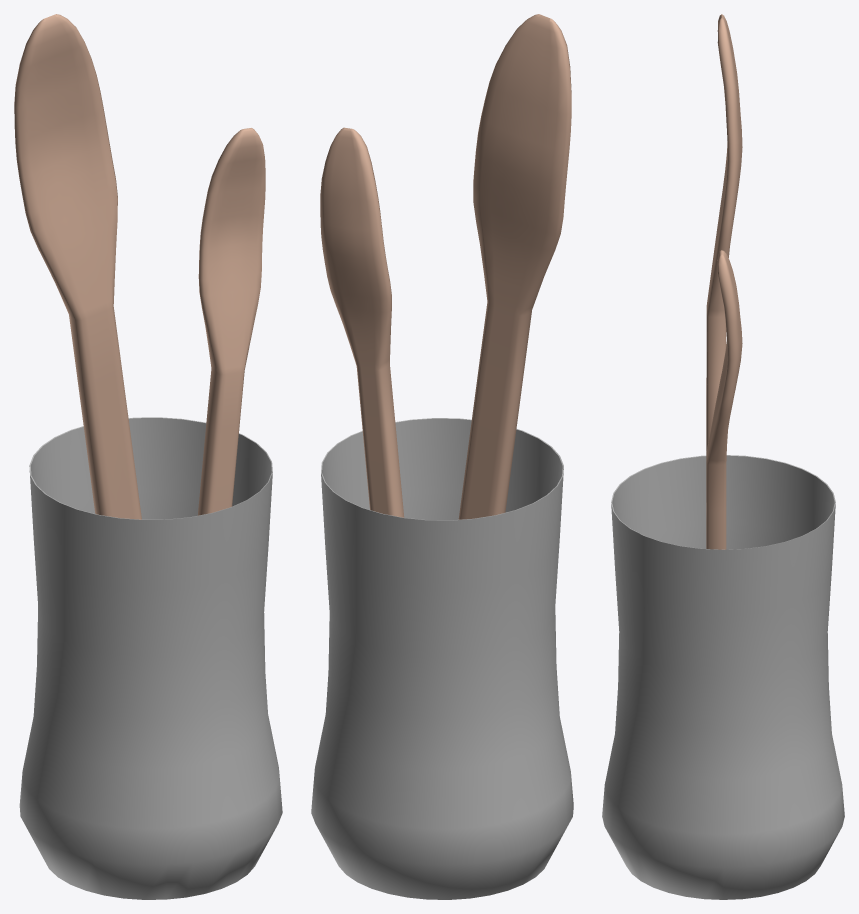
The model's file is bote_untensillios.glb.
The picture shows the model from 3 angles, left to right: view 1: azimuth 30°, elevation 25°; view 2: azimuth 150°, elevation 25°; view 3: azimuth 270°, elevation 25°; orthographic projection. The views are drawn at different scales.
Parts seen in each view (by area): view 1: bote_untensillios; view 2: bote_untensillios; view 3: bote_untensillios.
Boxes of the visible parts, bbox=[...] form: bote_untensillios: bbox=[14, 14, 282, 899]; bote_untensillios: bbox=[311, 14, 573, 899]; bote_untensillios: bbox=[602, 14, 844, 899].
Size of the model in its own units: 12.2 by 40.2 by 11.1.
